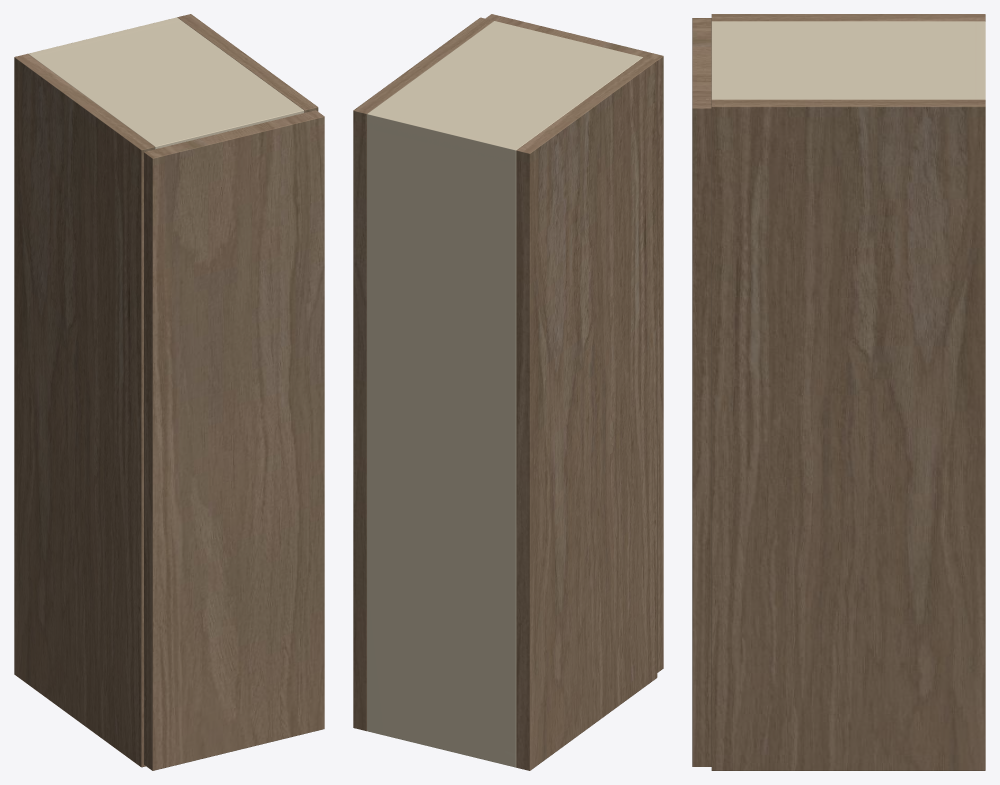
The model's file is oppein-ply-mnw-w0930.glb.
The picture shows the model from 3 angles, left to right: view 1: azimuth 30°, elevation 25°; view 2: azimuth 150°, elevation 25°; view 3: azimuth 270°, elevation 25°; orthographic projection. The views are drawn at different scales.
Visible parts, largest first — view 1: Door, Cabinet side, Cabinet top, Cabinet side.001, Cabinet back; view 2: Cabinet back, Cabinet side, Cabinet top, Cabinet side.001, Door; view 3: Cabinet side.001, Cabinet top, Door, Cabinet side, Cabinet back.
Part boxes in pixels (<box>): Door: <box>144,110,324,770</box>; Cabinet side: <box>14,53,154,767</box>; Cabinet top: <box>28,18,304,149</box>; Cabinet side.001: <box>177,14,318,112</box>; Cabinet back: <box>29,17,181,56</box>; Cabinet back: <box>367,110,520,767</box>; Cabinet side: <box>516,57,657,770</box>; Cabinet top: <box>367,21,642,163</box>; Cabinet side.001: <box>353,17,493,731</box>; Door: <box>485,14,663,672</box>; Cabinet side.001: <box>711,99,985,770</box>; Cabinet top: <box>711,21,985,99</box>; Door: <box>692,18,711,766</box>; Cabinet side: <box>711,14,985,21</box>; Cabinet back: <box>974,21,984,99</box>.
Size of the model in its own units: 0.2286 by 0.762 by 0.3048.
Materials: 2 (1 with a texture image).
